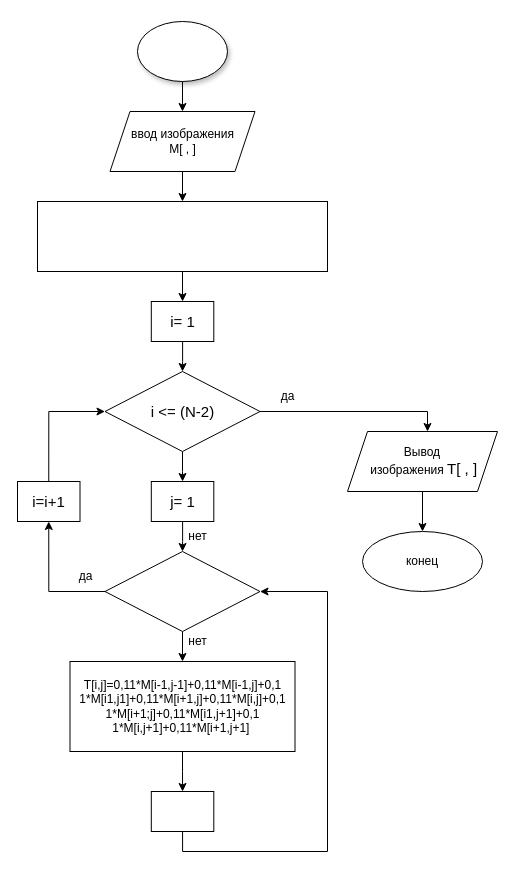
This 515x877 diagram has some shape labels left out. The shapes that lost their labels are listed below. From the top down, each one's centre as x and y in pixels, then its label:
At pixel 183 52: "начало".
At pixel 182 236: "Создание пустого двумерного массива T[ , ] c размерность входного изображения".
At pixel 182 591: "j <= (N-2)".
At pixel 182 811: "j=j+1".
